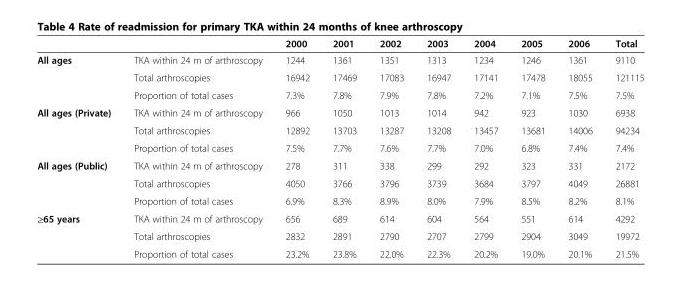table: (36, 37, 643, 259)
table column: (121, 37, 273, 259), (36, 37, 121, 259), (508, 37, 556, 259), (273, 37, 320, 259), (320, 37, 367, 259), (367, 37, 414, 259), (414, 37, 461, 259), (461, 37, 508, 259), (556, 37, 603, 259), (603, 37, 643, 259)
table column header: (36, 37, 643, 51)
table row: (36, 68, 643, 86), (36, 103, 643, 121), (36, 138, 643, 156), (36, 156, 643, 174), (36, 191, 643, 209), (36, 209, 643, 227), (36, 51, 643, 68), (36, 86, 643, 103), (36, 121, 643, 138), (36, 174, 643, 191), (36, 227, 643, 244), (36, 244, 643, 259), (36, 37, 643, 51)
table spanning cell: (36, 103, 121, 156), (36, 156, 121, 209), (36, 51, 121, 103), (36, 209, 121, 259)
